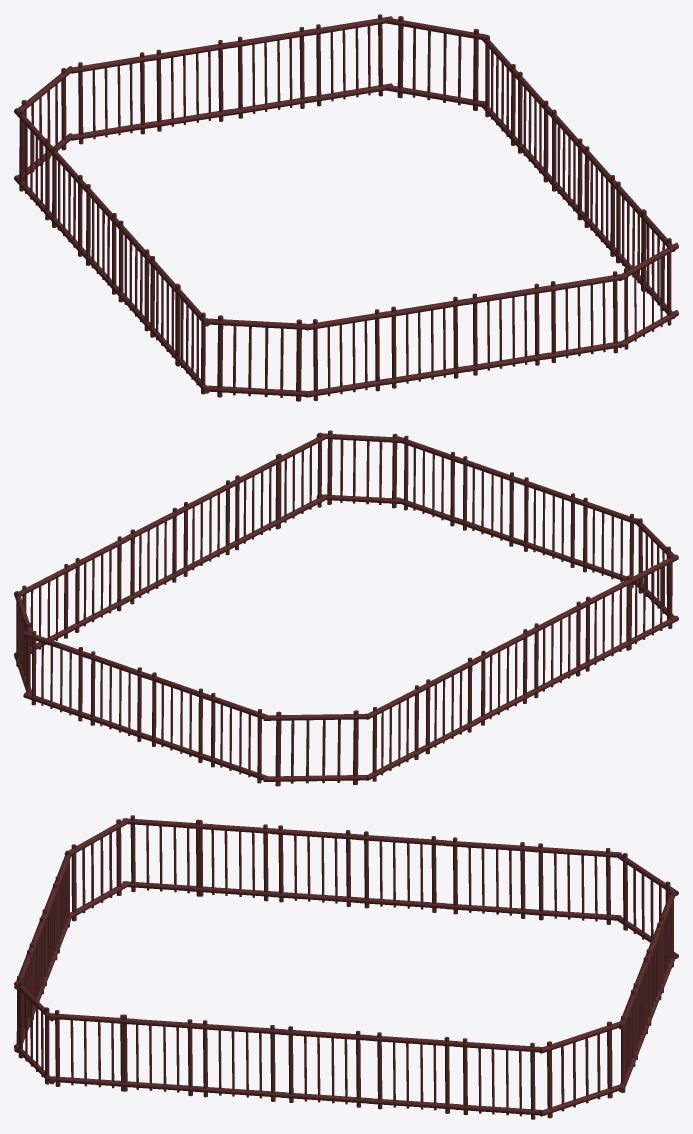
The model's file is Jaula.obj.
3 views of the same model, one above another, from view 1: azimuth 30°, elevation 25°; view 2: azimuth 150°, elevation 25°; view 3: azimuth 270°, elevation 25° (orthographic). The views are drawn at different scales.
Visible parts, largest first — view 1: Jaula:pasted__pasted__pCylinder2; view 2: Jaula:pasted__pasted__pCylinder2; view 3: Jaula:pasted__pasted__pCylinder2.
Part boxes in pixels (x1=…): Jaula:pasted__pasted__pCylinder2: x1=14, y1=14, x2=678, y2=401; Jaula:pasted__pasted__pCylinder2: x1=14, y1=430, x2=678, y2=786; Jaula:pasted__pasted__pCylinder2: x1=14, y1=815, x2=678, y2=1119.
Bounding box in the file's own units: 10.94 × 1.66 × 13.24.
Materials: 24 (24 with a texture image).
